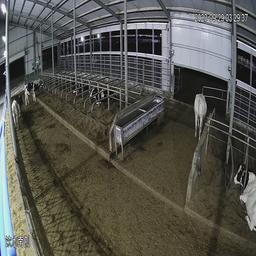cow: (233, 159, 255, 233), (193, 81, 210, 144), (22, 79, 44, 110), (88, 81, 108, 107), (9, 93, 21, 130)
